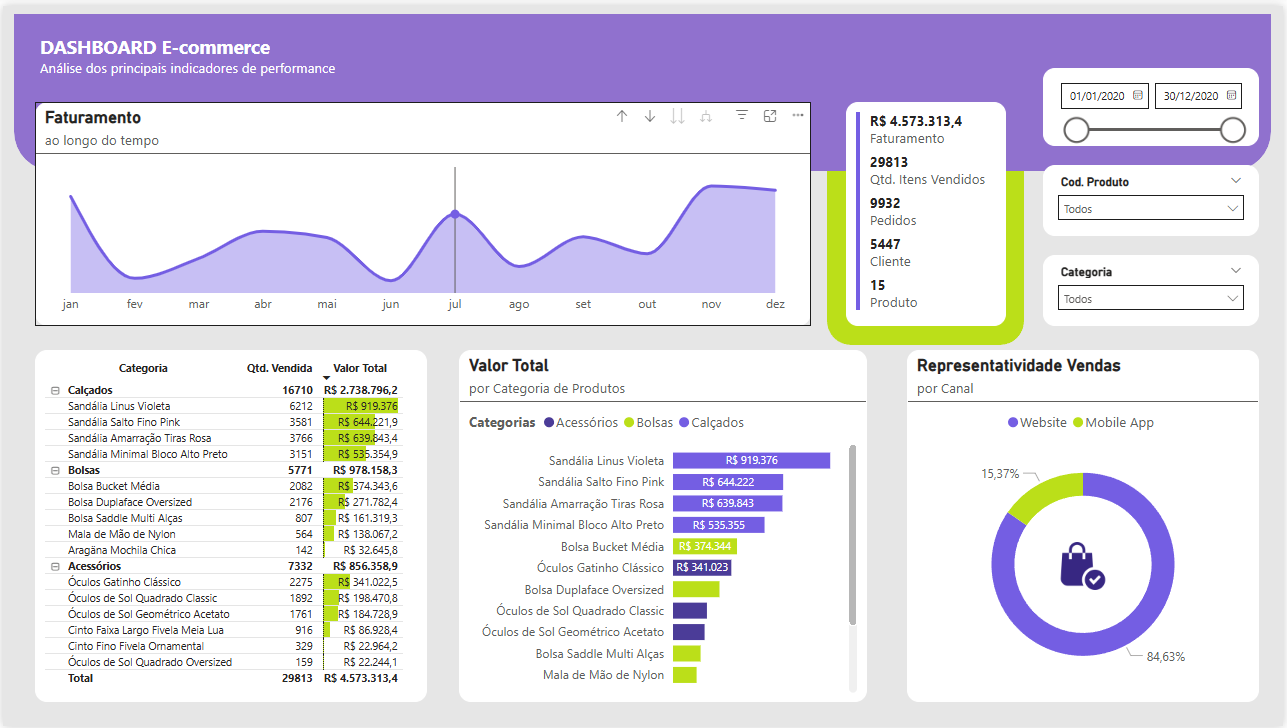

Layout of this report page (visuals, bound fields, positions):
{"tool":"powerbi","page":{"name":"Visão Geral","canvas":[1280,720],"ordinal":0},"visuals":[{"type":"shape","box":[824.1,61.9,196.6,277.4],"z":0},{"type":"shape","box":[10.8,8.1,1256.9,157.1],"z":1000},{"type":"areaChart","title":"Faturamento","fields":{"Category":["Historico Vendas.Data da Venda.Variation.Hierarquia de datas.Ano","Historico Vendas.Data da Venda.Variation.Hierarquia de datas.Trimestre","Historico Vendas.Data da Venda.Variation.Hierarquia de datas.Mês","Historico Vendas.Data da Venda.Variation.Hierarquia de datas.Dia","Historico Vendas.Nome do Mês"],"Y":["Sum(Historico Vendas.Valor Total)"]},"box":[32,96,776,224],"z":2000},{"type":"barChart","title":"Valor Total","fields":{"Category":["Produtos.Categoria","Produtos.Produto"],"Y":["Sum(Historico Vendas.Valor Total)"],"Series":["Produtos.Categoria"]},"box":[456,344,408,352],"z":3000},{"type":"donutChart","title":"Representatividade Vendas","fields":{"Y":["Sum(Historico Vendas.Valor Total)"],"Category":["Historico Vendas.Canal de Venda"]},"box":[904,344,352,352],"z":4000},{"type":"image","box":[1048,536,64,48],"z":5000},{"type":"pivotTable","fields":{"Rows":["Produtos.Categoria","Produtos.Produto"],"Values":["Sum(Historico Vendas.Quantidade)","Sum(Historico Vendas.Valor Total)"]},"box":[32,344,392,352],"z":6000},{"type":"multiRowCard","fields":{"Values":["Sum(Historico Vendas.Valor Total)","Sum(Historico Vendas.Quantidade)","Historico Vendas.Pedido","Count(Historico Vendas.ID Cliente)","Produtos.Produto"]},"box":[843,96.1,159.8,224.4],"z":7000},{"type":"slicer","fields":{"Values":["Historico Vendas.Data da Venda"]},"box":[1039.6,61.9,216.4,78.1],"z":8000},{"type":"slicer","fields":{"Values":["Historico Vendas.Cod. Produto"]},"box":[1039.6,158.9,216.4,70.9],"z":9000},{"type":"slicer","fields":{"Values":["Produtos.Categoria"]},"box":[1039.6,248.7,216.4,71.8],"z":10000},{"type":"textbox","box":[32.3,23.3,327.7,63.7],"z":11000}]}

Visuals, with their boxes in screenshot pixels (x1, y1, x2, y2), scaled from the page's 1280x720 canvas onto the 1287x728 screenshot:
shape: 829,63,1026,343
shape: 11,8,1275,167
"Faturamento" areaChart: 32,97,812,324
"Valor Total" barChart: 458,348,869,704
"Representatividade Vendas" donutChart: 909,348,1263,704
image: 1054,542,1118,590
pivotTable - Produtos.Categoria x Produtos.Produto: 32,348,426,704
multiRowCard - Sum(Historico Vendas.Valor Total) x Sum(Historico Vendas.Quantidade): 848,97,1008,324
slicer - Historico Vendas.Data da Venda: 1045,63,1263,142
slicer - Historico Vendas.Cod. Produto: 1045,161,1263,232
slicer - Produtos.Categoria: 1045,251,1263,324
textbox: 32,24,362,88
